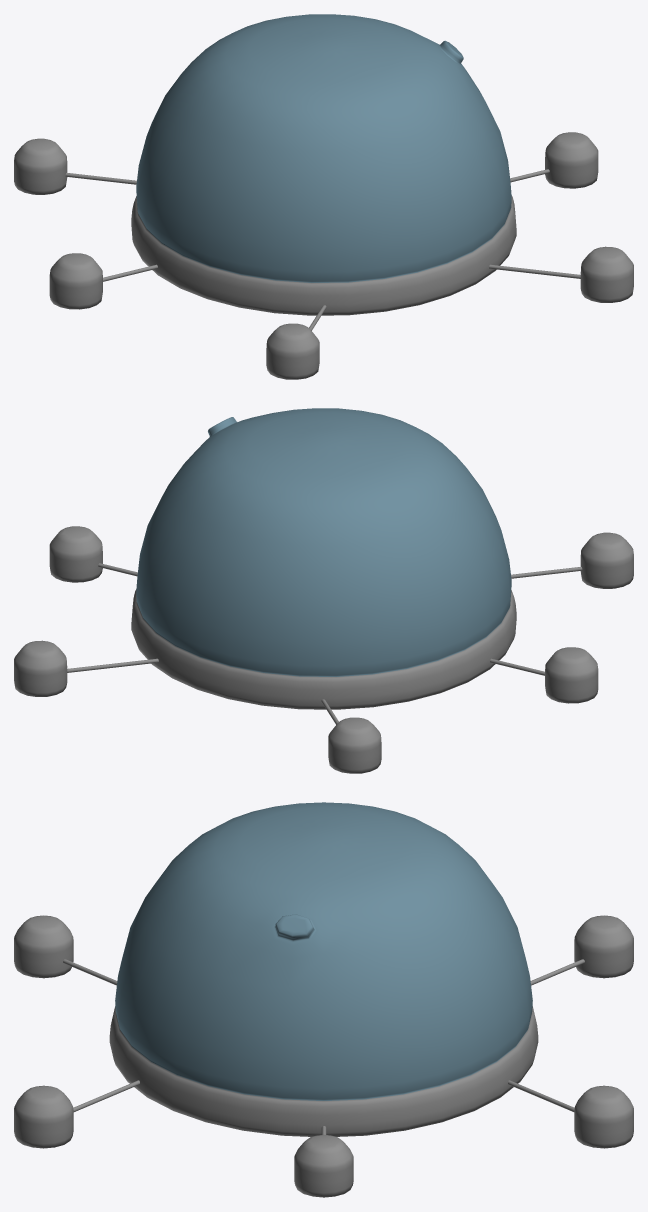
The model's file is bot-n-grnd-test-001.gltf.
The picture shows the model from 3 angles, top to bottom: view 1: azimuth 30°, elevation 25°; view 2: azimuth 150°, elevation 25°; view 3: azimuth 270°, elevation 25°; orthographic projection. The views are drawn at different scales.
Parts seen in each view (by area): view 1: bot, Cylinder.003; view 2: bot, Cylinder.003; view 3: bot, Cylinder.003.
Boxes of the visible parts, bbox=[...] form: bot: bbox=[131, 14, 516, 315]; Cylinder.003: bbox=[14, 132, 633, 379]; bot: bbox=[131, 408, 516, 709]; Cylinder.003: bbox=[14, 526, 633, 773]; bot: bbox=[109, 802, 538, 1136]; Cylinder.003: bbox=[14, 915, 633, 1197].
Size of what is drawn, in the model's own units: 3.15 by 1.09 by 2.82.
